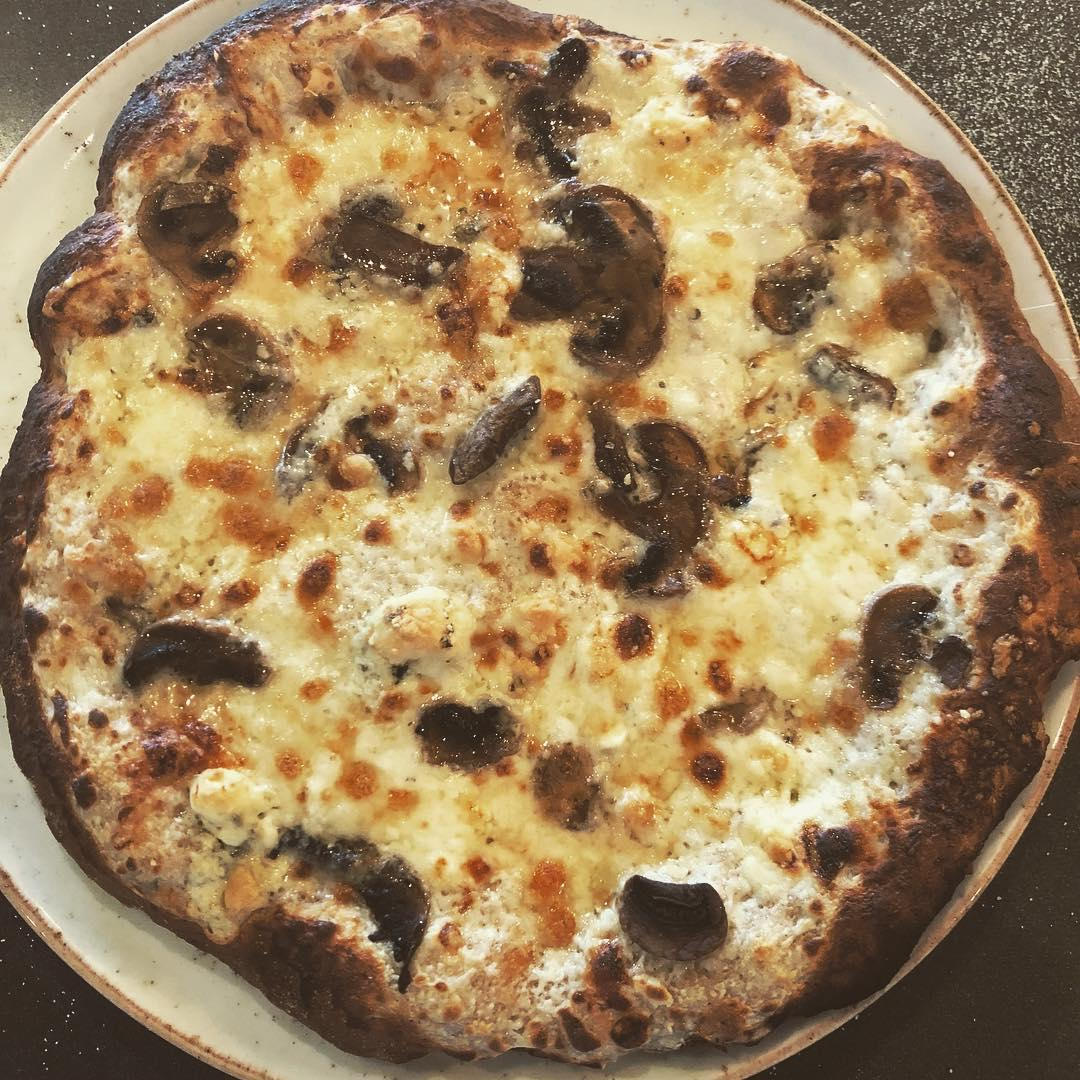Mushroom: (268, 816, 438, 996), (511, 194, 667, 372), (591, 421, 716, 596), (308, 171, 458, 292), (781, 304, 920, 434), (128, 174, 247, 299), (614, 860, 733, 977), (858, 581, 945, 729), (428, 374, 541, 485), (172, 308, 284, 418), (281, 398, 403, 498), (118, 618, 265, 689), (412, 692, 526, 783), (736, 240, 831, 338), (514, 68, 601, 170)
Pizza: (14, 14, 1080, 1065)
